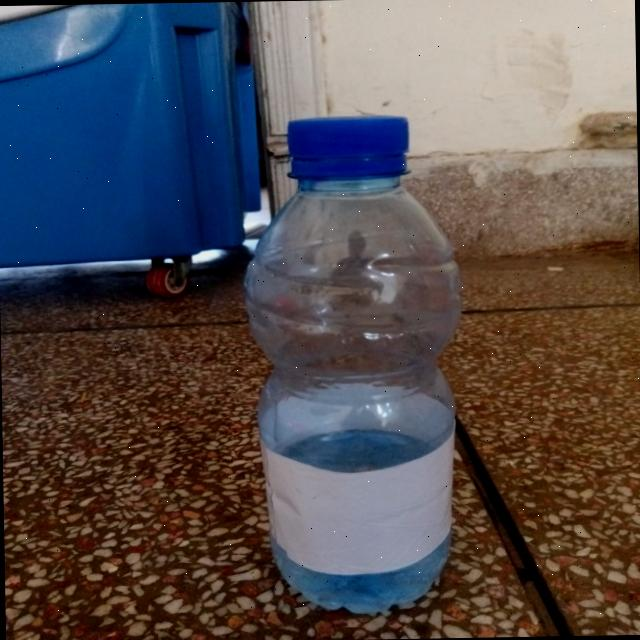bottle: (248, 96, 477, 624)
cap: (282, 102, 424, 196)
label: (260, 428, 462, 583)
